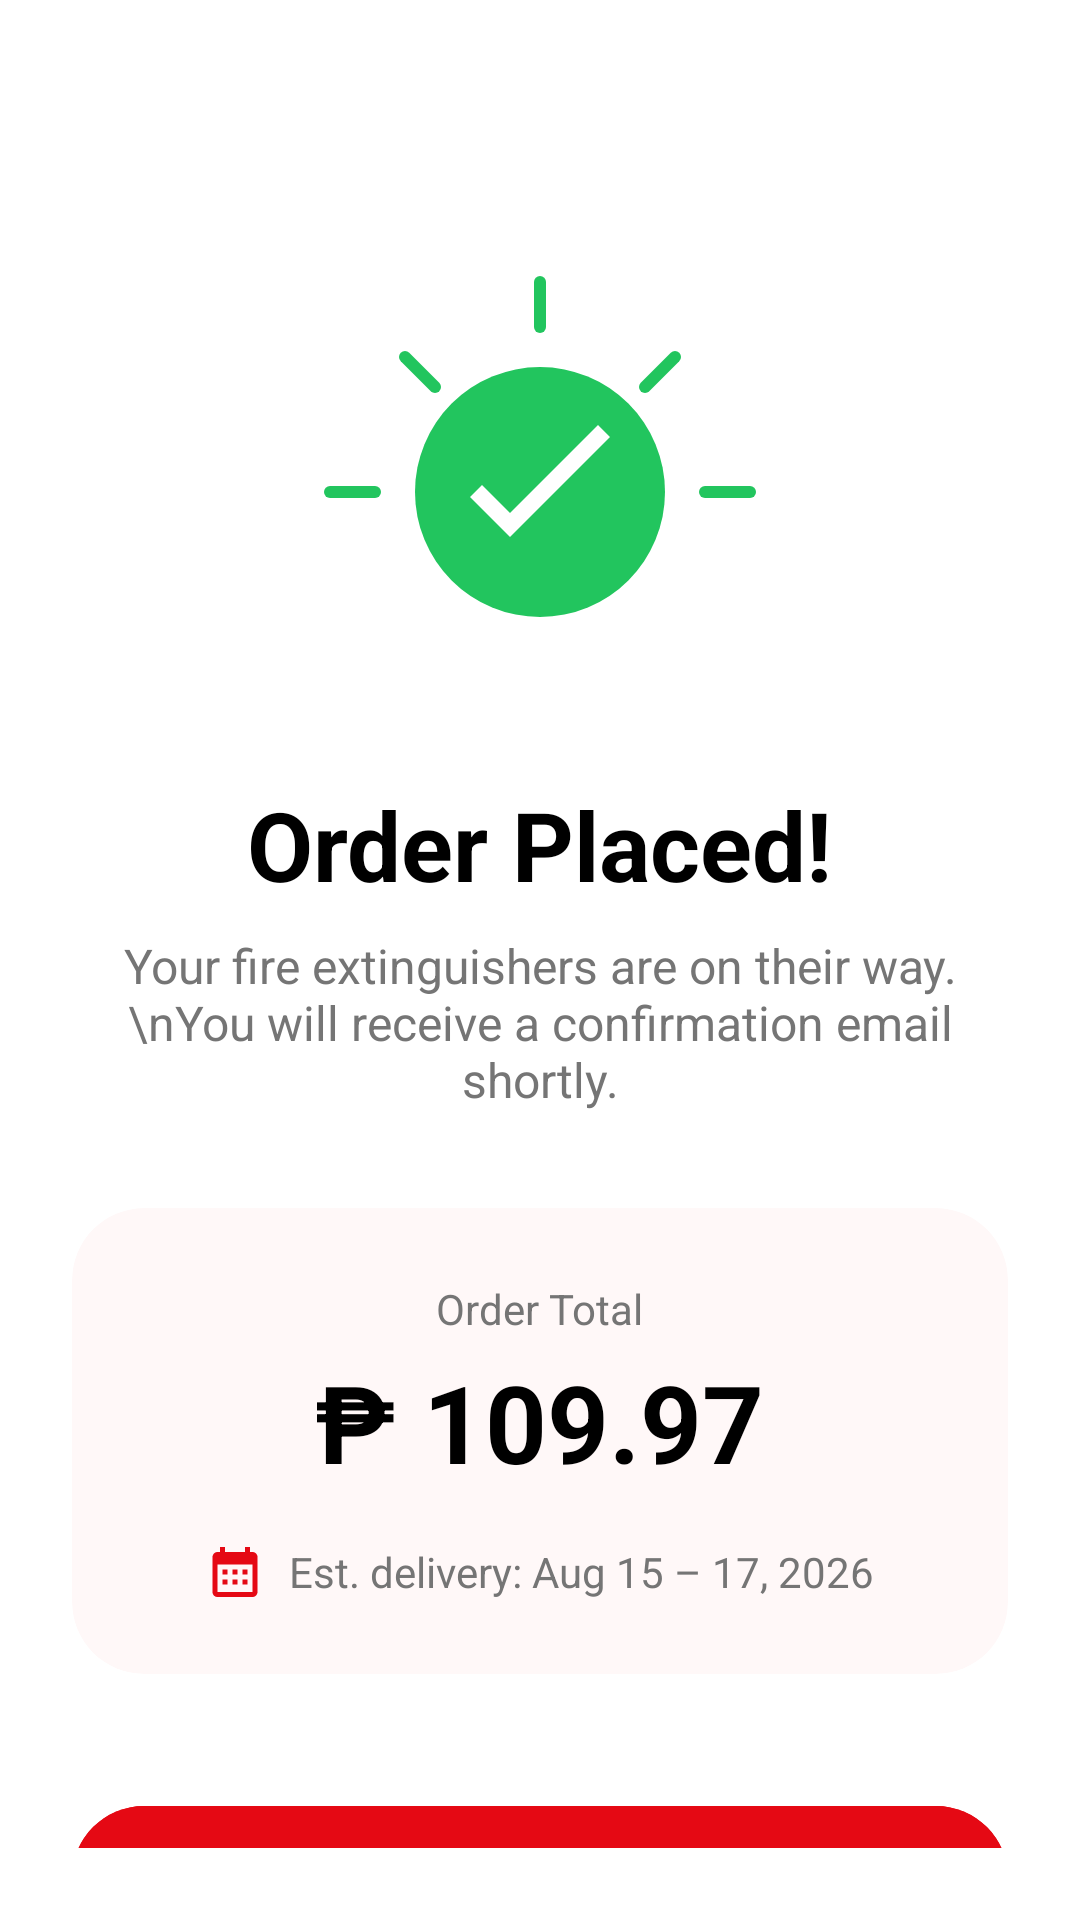

Icon click points for this 1080w x 1920h phone screenshot, format point (x, y):
calendar: point (235, 1572)
